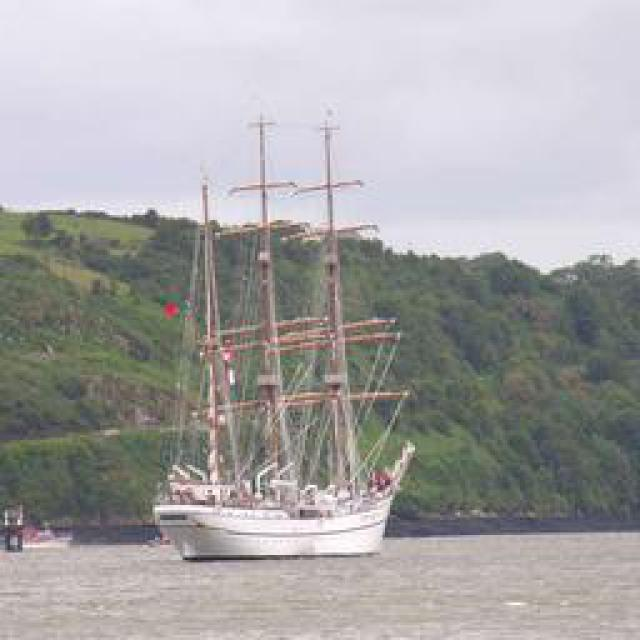Ship: (157, 101, 417, 563), (4, 498, 84, 556)
